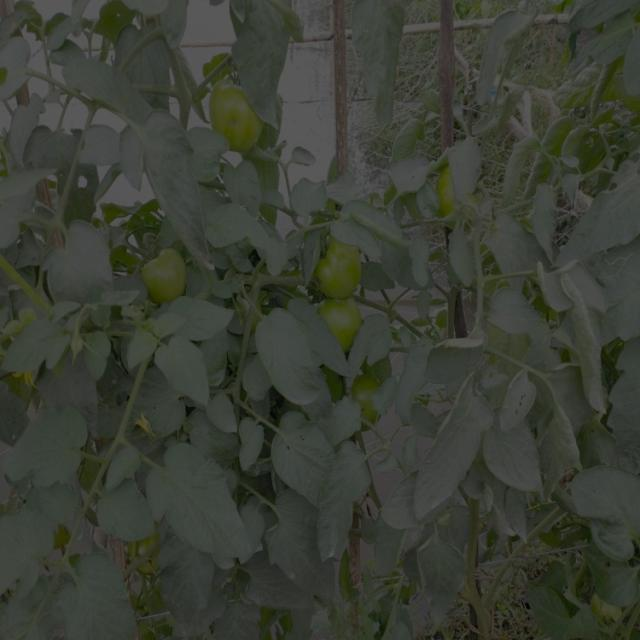tomato: (208, 79, 261, 156), (139, 242, 194, 306), (310, 241, 364, 295), (319, 297, 367, 344)
